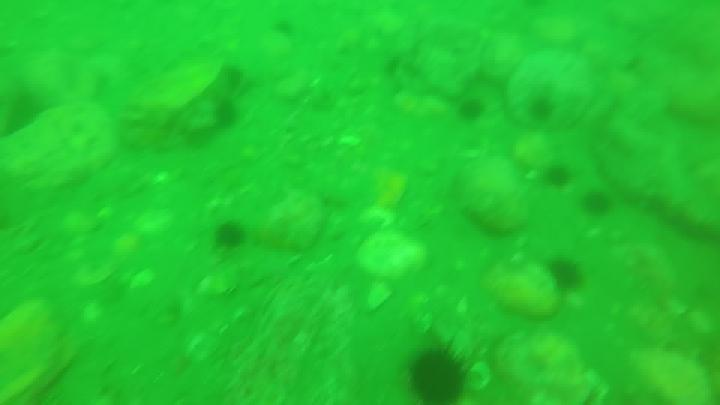echinus: (407, 347, 469, 405), (555, 259, 583, 292), (585, 192, 617, 220), (462, 96, 492, 123), (529, 96, 560, 118), (216, 226, 243, 251), (218, 101, 242, 125), (552, 165, 571, 187)
scallop: (348, 230, 429, 280), (200, 260, 247, 298), (128, 208, 181, 233), (187, 330, 219, 365), (72, 261, 120, 283), (127, 268, 155, 292), (415, 309, 434, 332)
